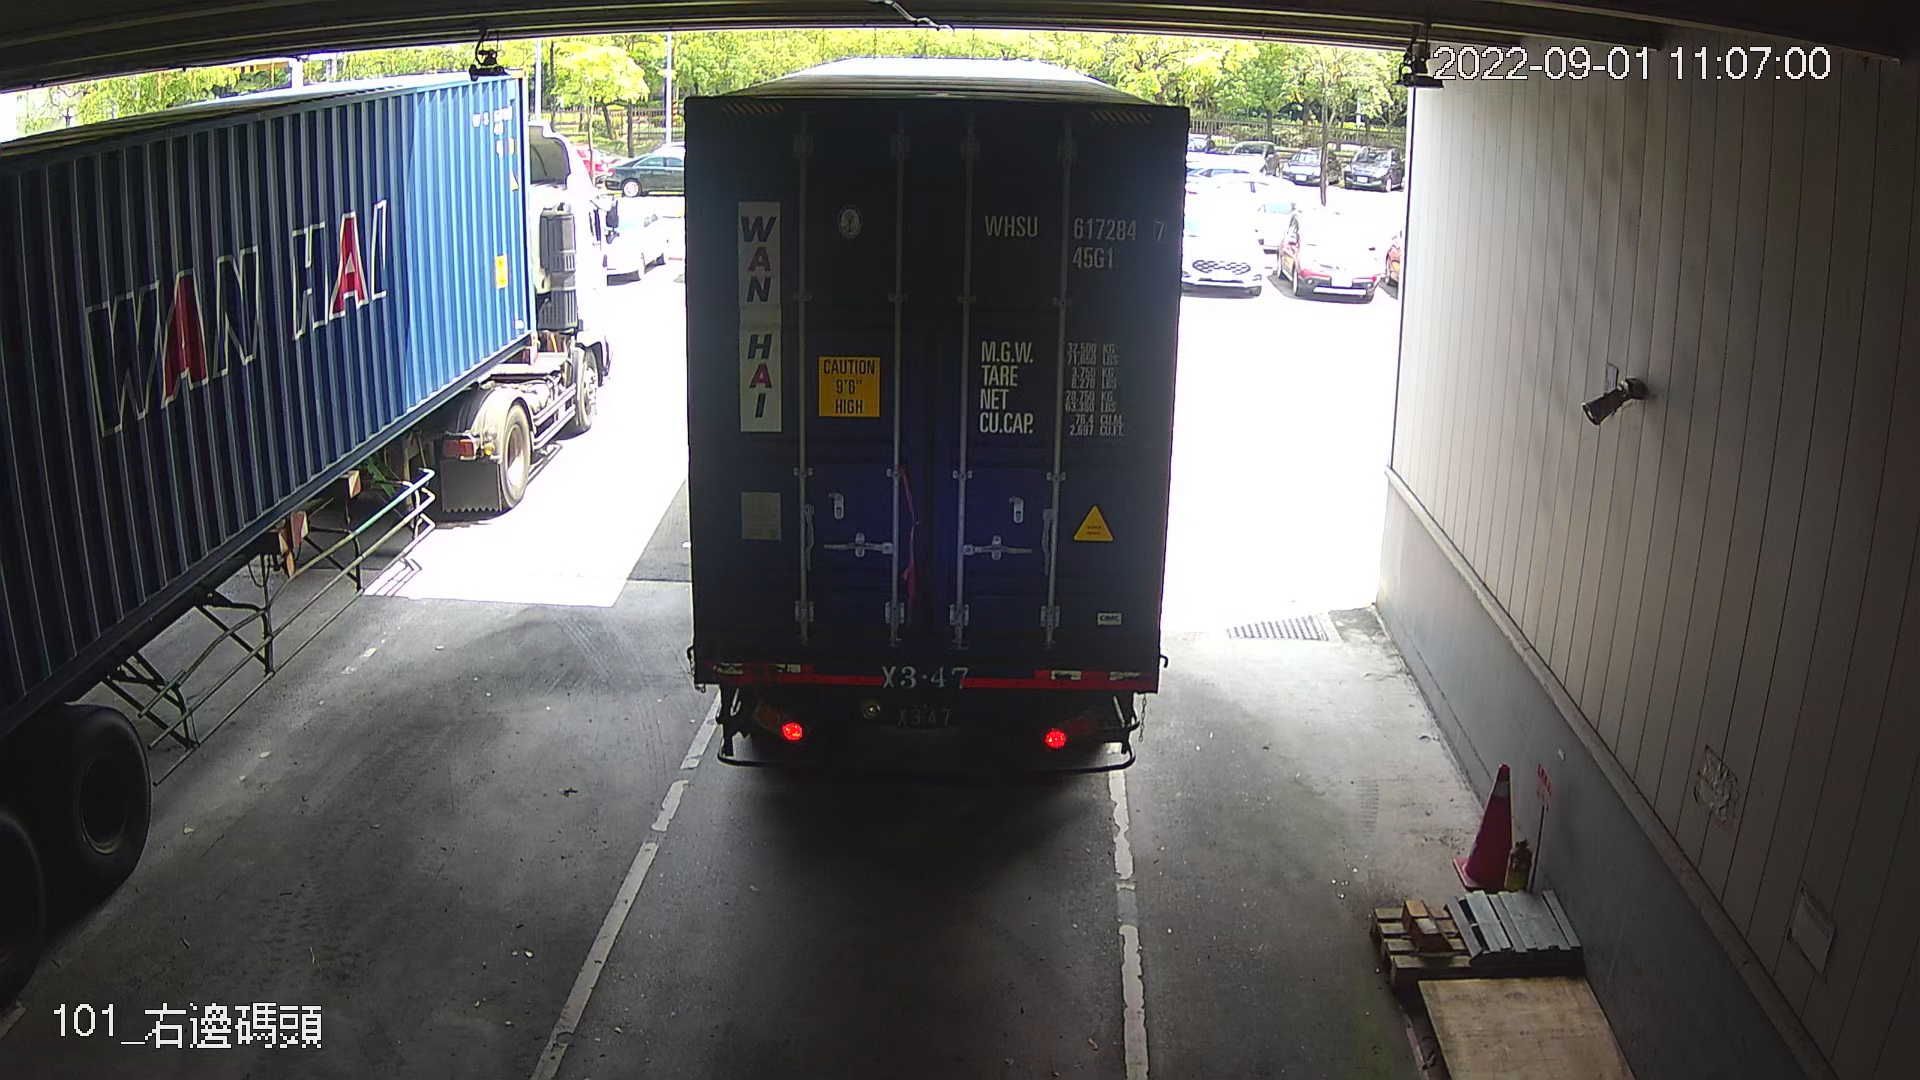container: (975, 204, 1174, 281)
